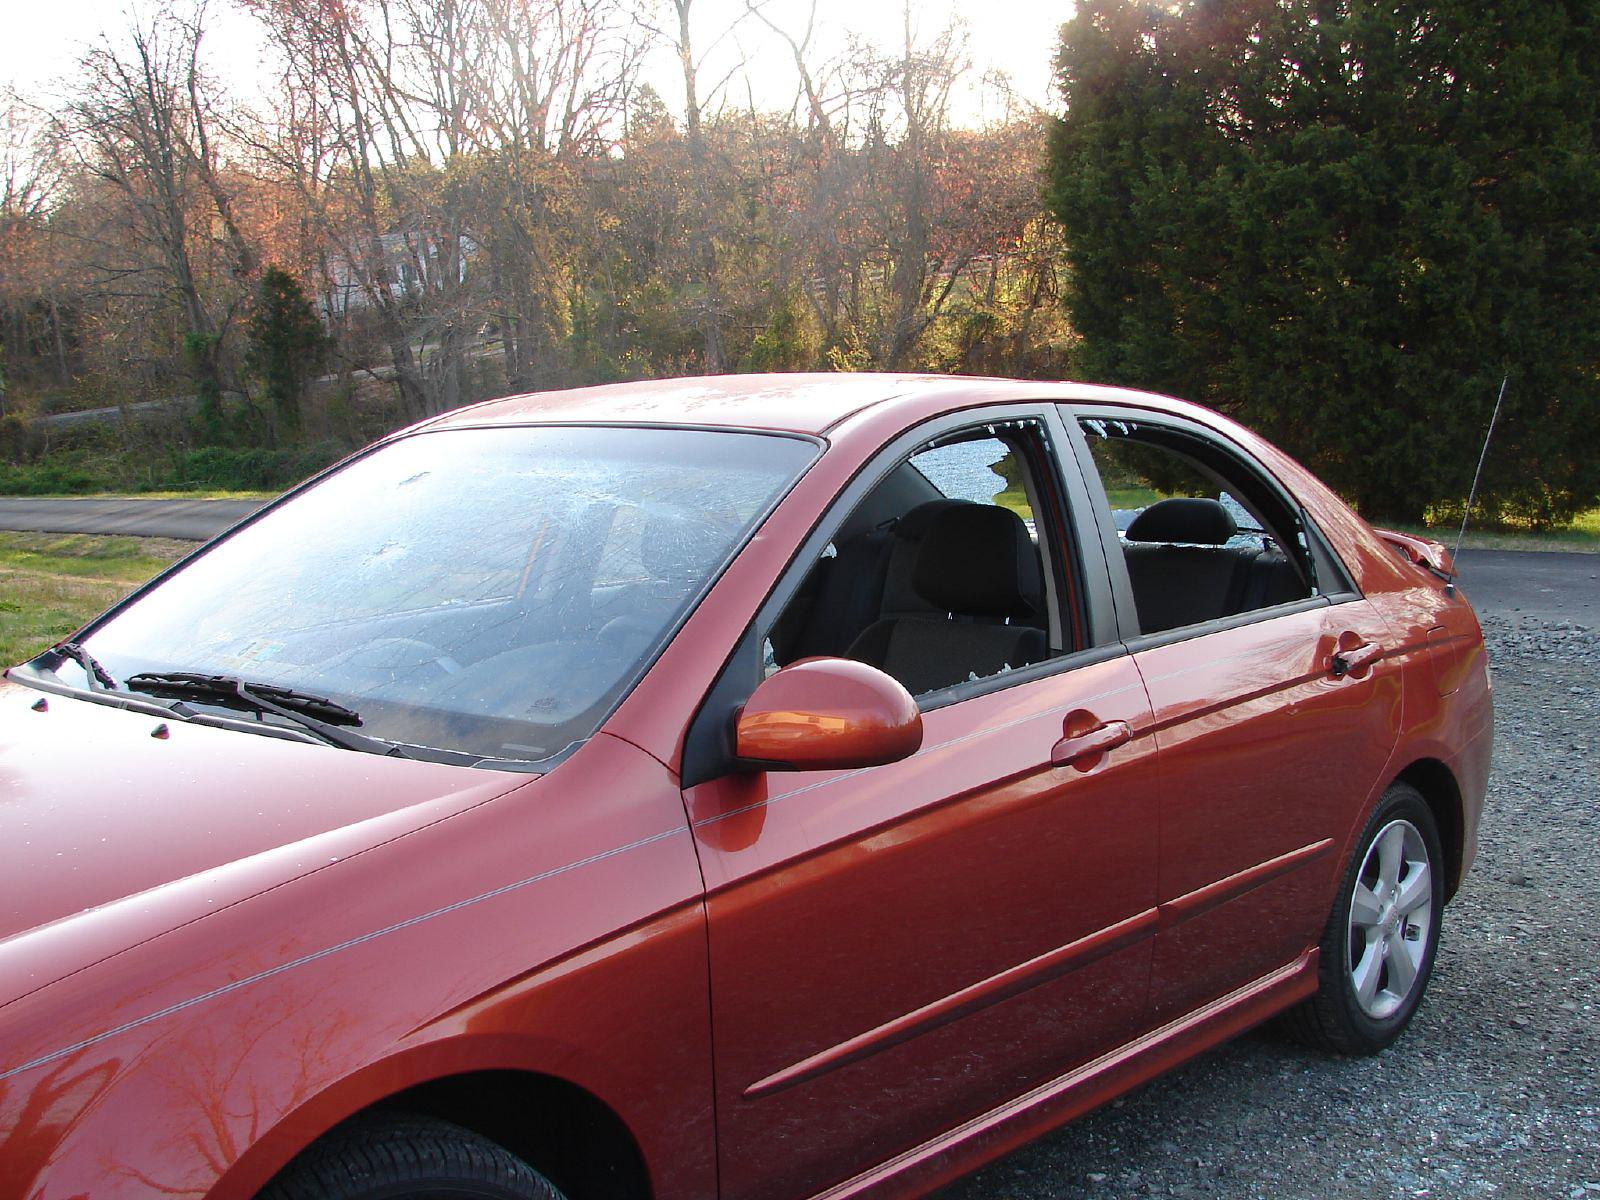Front-Windscreen-Damage: (125, 403, 823, 776)
doorouter-dent: (1107, 377, 1519, 996), (678, 440, 1140, 884)
